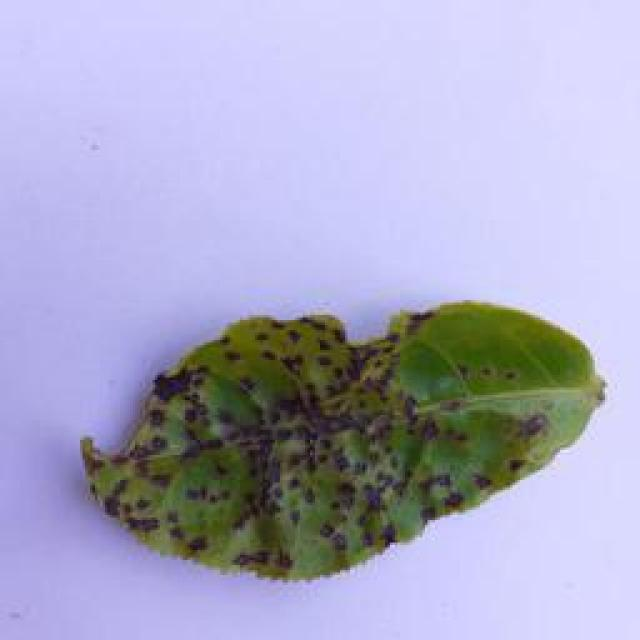Helopeltis: (60, 287, 616, 582)
